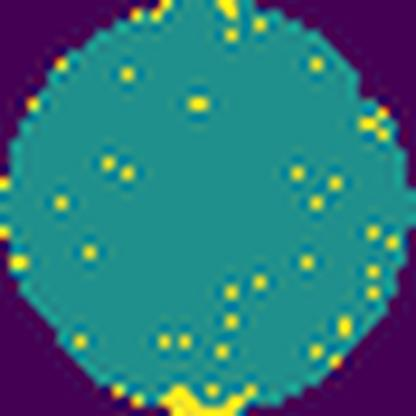Edge-Loc: (156, 380, 256, 416)
